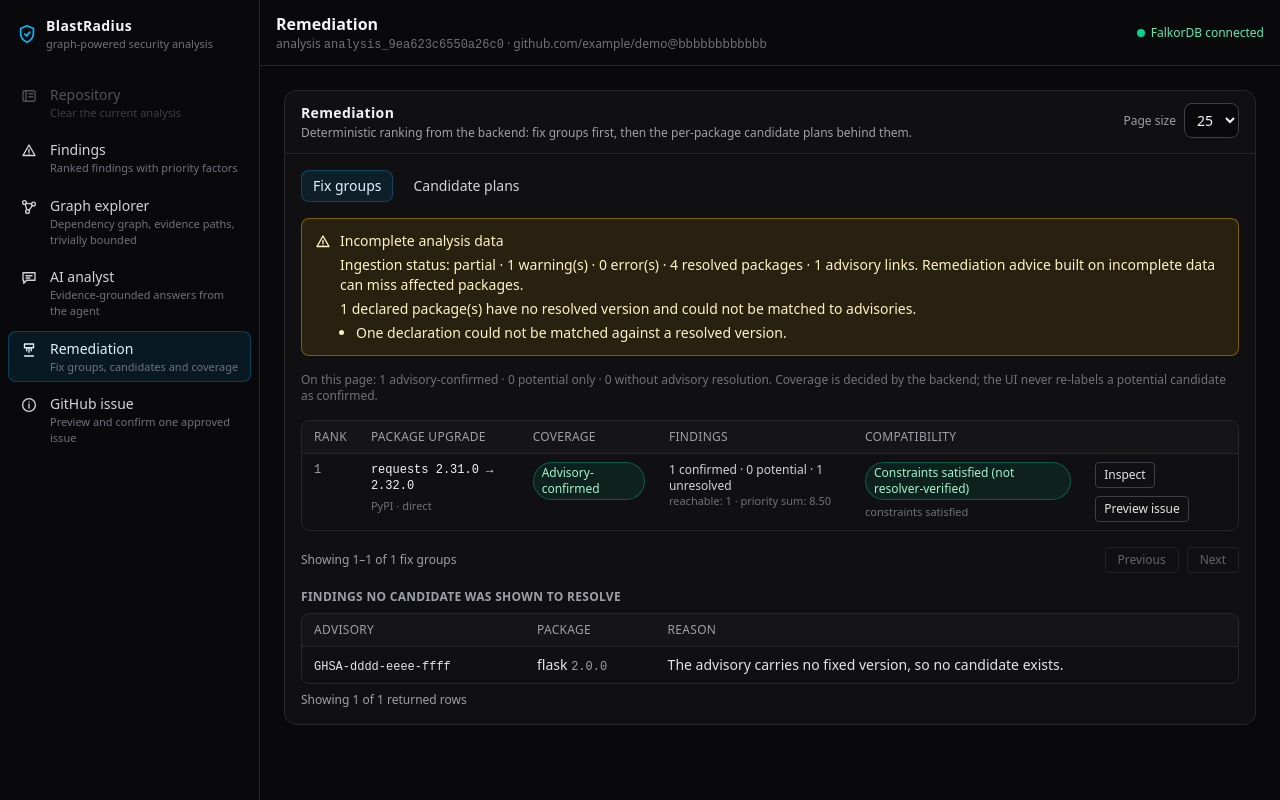
Test case: Screen E — remediation ranking › drills into a group with the full validated findings and candidate evidence
The width and height of the screenshot is (1280, 800).
expect the text "requests 2.31.0 → 2.32.0" is shown: met, box [371, 462, 509, 494]
Click the button "Inspect" at (1125, 475), box [1095, 462, 1155, 488]
(page scrolled)
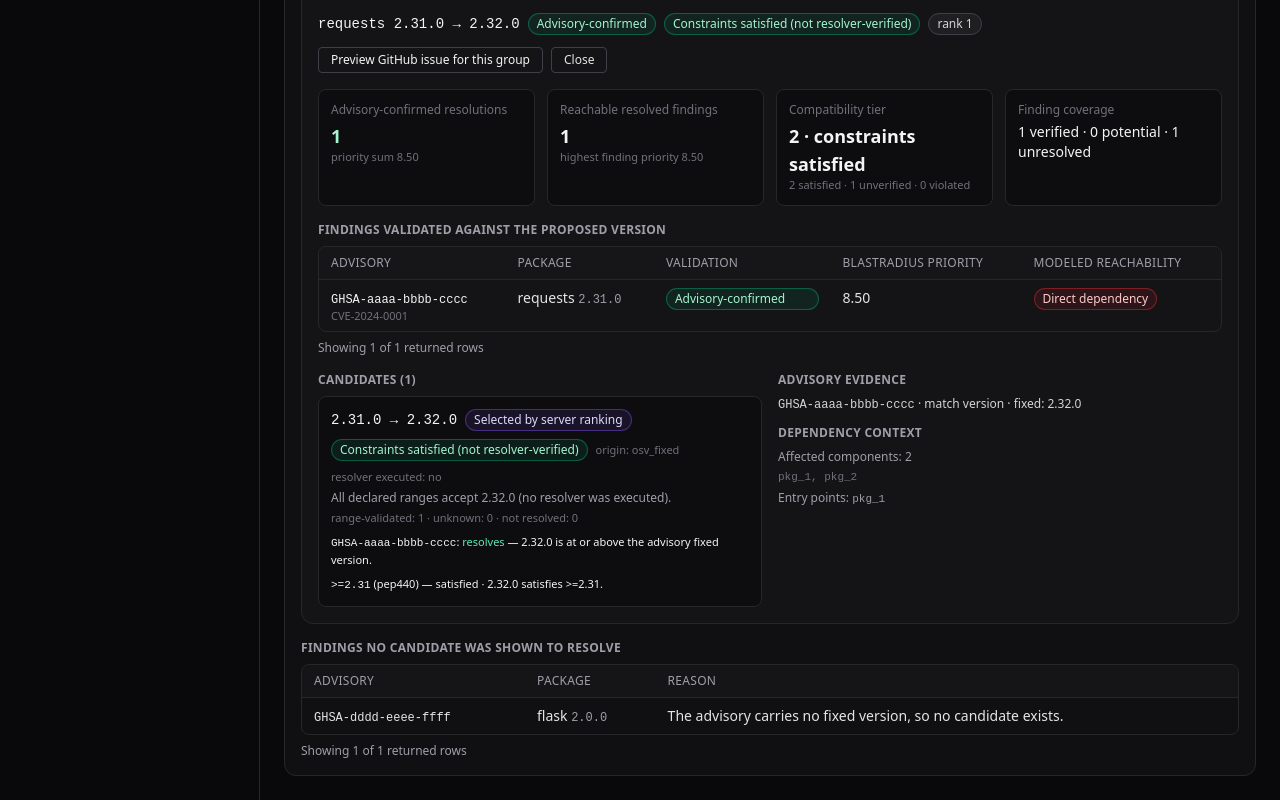
expect the heading "Findings validated against the proposed version" is shown: met, box [318, 221, 666, 238]
expect the heading "Candidates (1)" is shown: met, box [318, 371, 416, 388]
expect the text "resolver executed: no" is shown: met, box [331, 469, 442, 486]
